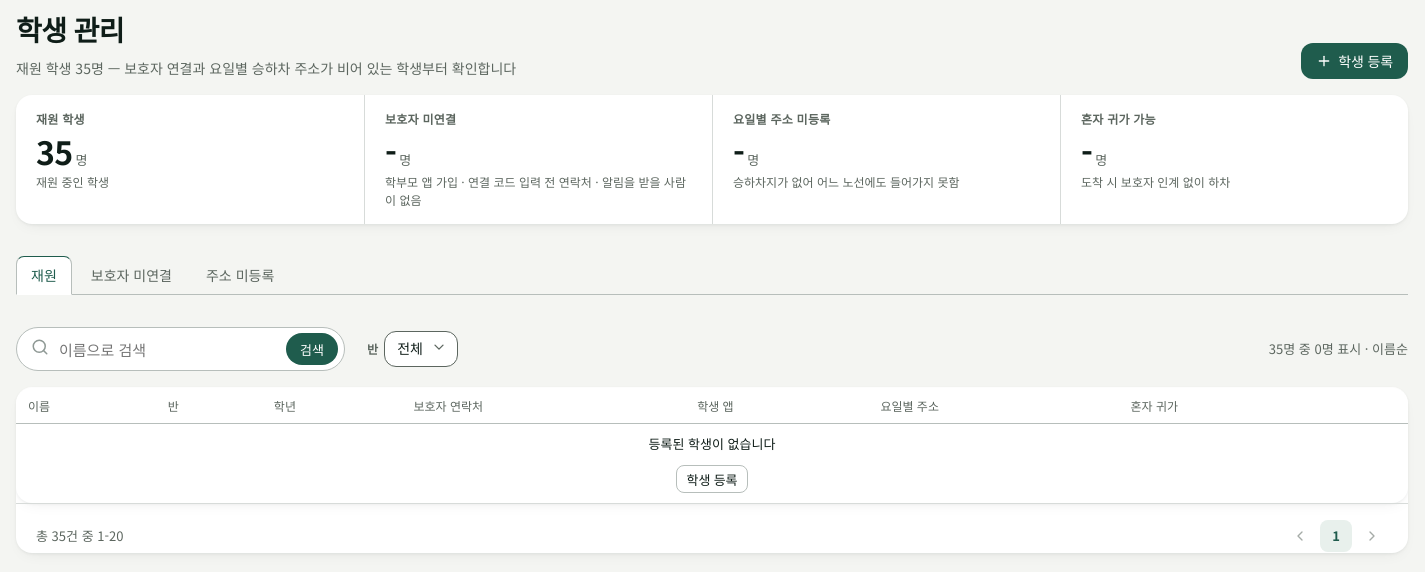
it: StudentList — 검색 결과 없음 › 검색어를 넣어 0건이면 그 검색어와 함께 검색 결과가 없다고 알린다
Type "없는이름" into the field with placeholder "이름으로 검색" at (168, 349), box [57,338,278,361]
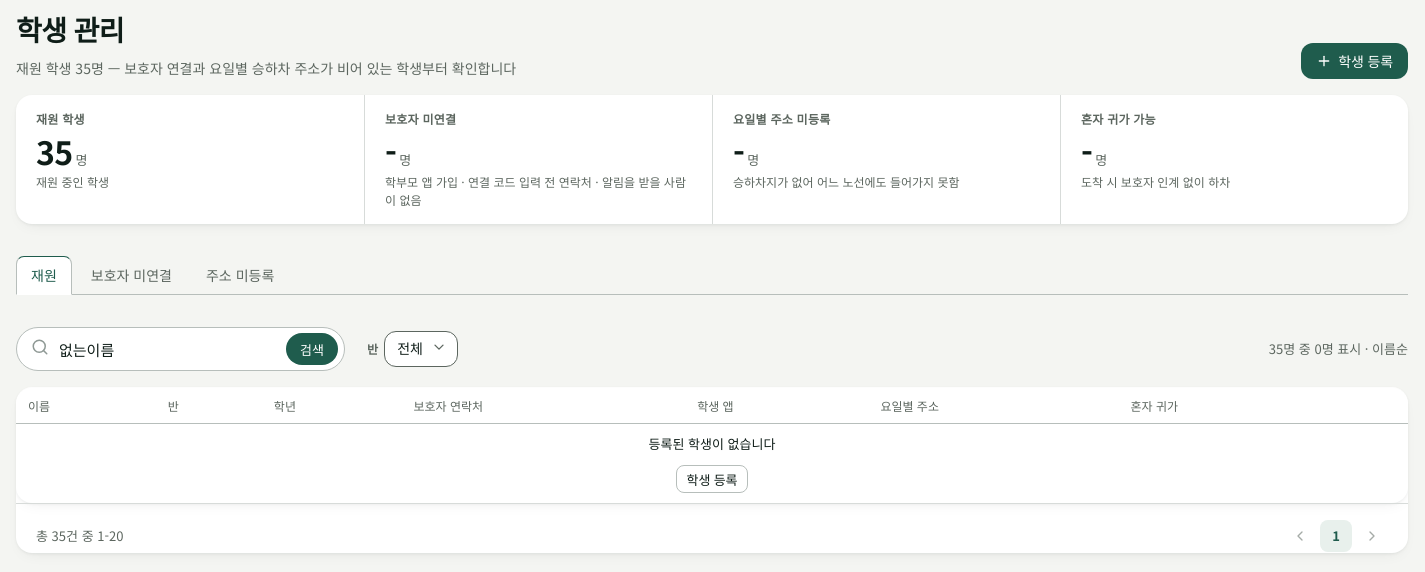
Click the button "검색" at (312, 349), box [286,333,338,365]
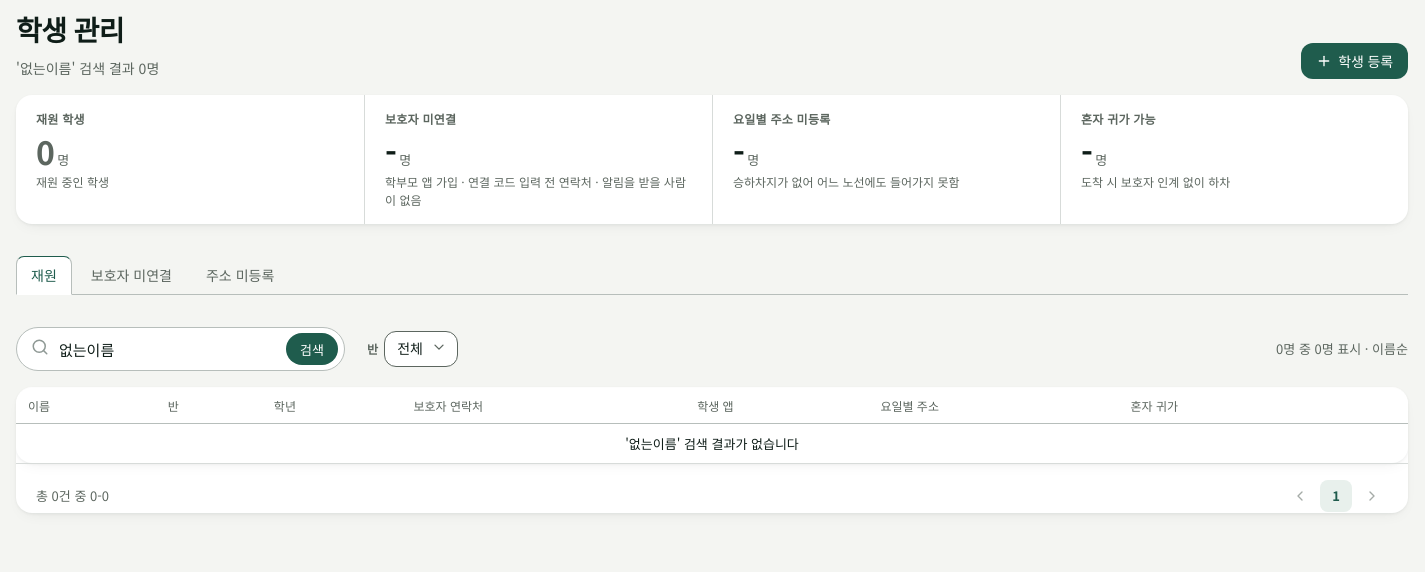
Expected: the text "'없는이름' 검색 결과가 없습니다" is shown, [16,424,1408,464]
Expected: the text "'없는이름' 검색 결과 0명" is shown, [16,58,159,78]
